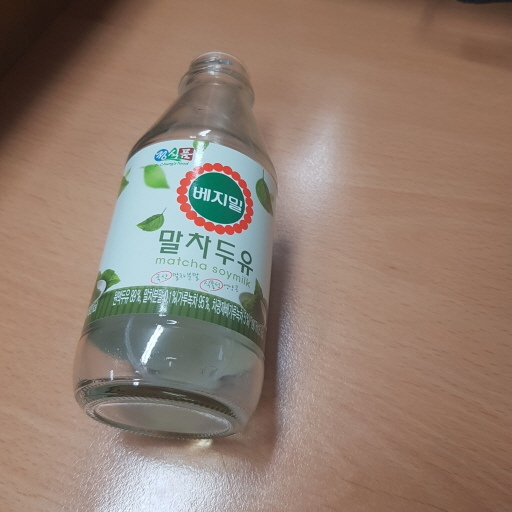Glass_4: (72, 53, 278, 443)
